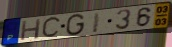3: (115, 9, 132, 31)
6: (134, 7, 153, 29)
C: (41, 15, 63, 40)
G: (65, 13, 87, 37)
H: (20, 18, 43, 42)
I: (91, 11, 102, 34)
